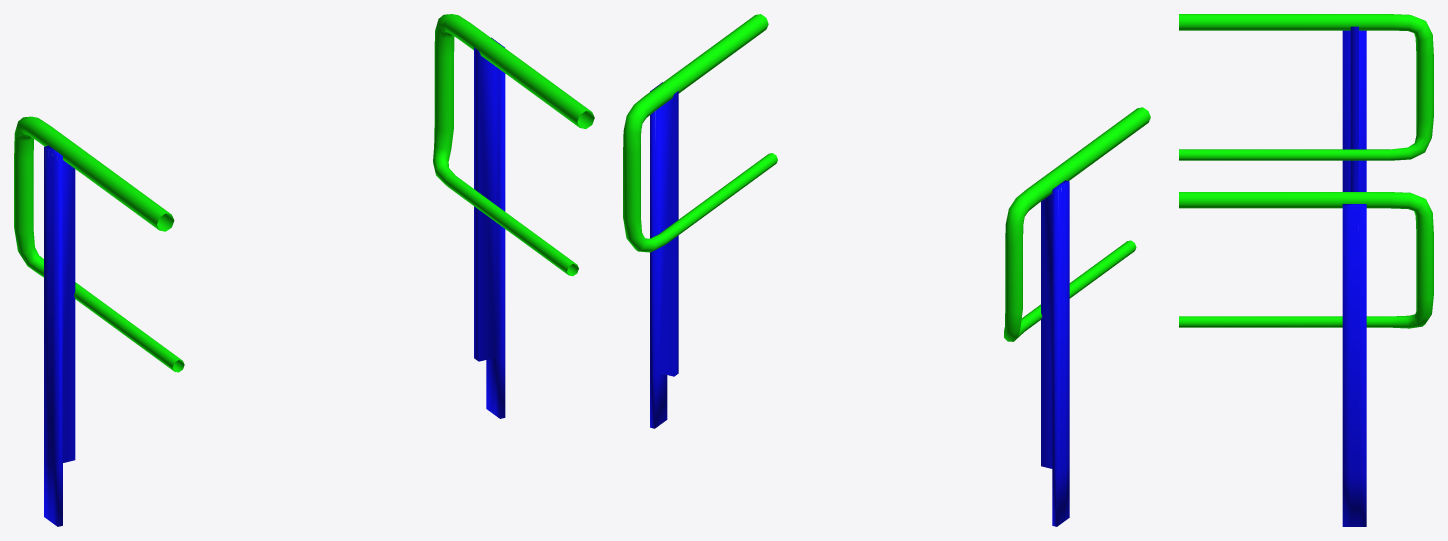
The model's file is CercaFim.fbx.
3 views of the same model, side by side, from view 1: azimuth 30°, elevation 25°; view 2: azimuth 150°, elevation 25°; view 3: azimuth 270°, elevation 25° (orthographic). The views are drawn at different scales.
Parts seen in each view (by area): view 1: CercaFim; view 2: CercaFim; view 3: CercaFim.
Part boxes in pixels (left/top/right/bottom): CercaFim: left=14, top=14, right=594, bottom=526; CercaFim: left=623, top=14, right=1150, bottom=526; CercaFim: left=1179, top=14, right=1433, bottom=526.
Bounding box in the file's own units: 128 × 103 × 72.5.
